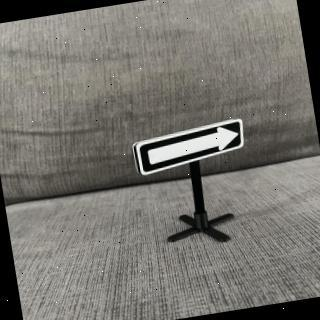sign_oneway_right: (133, 118, 251, 179)
